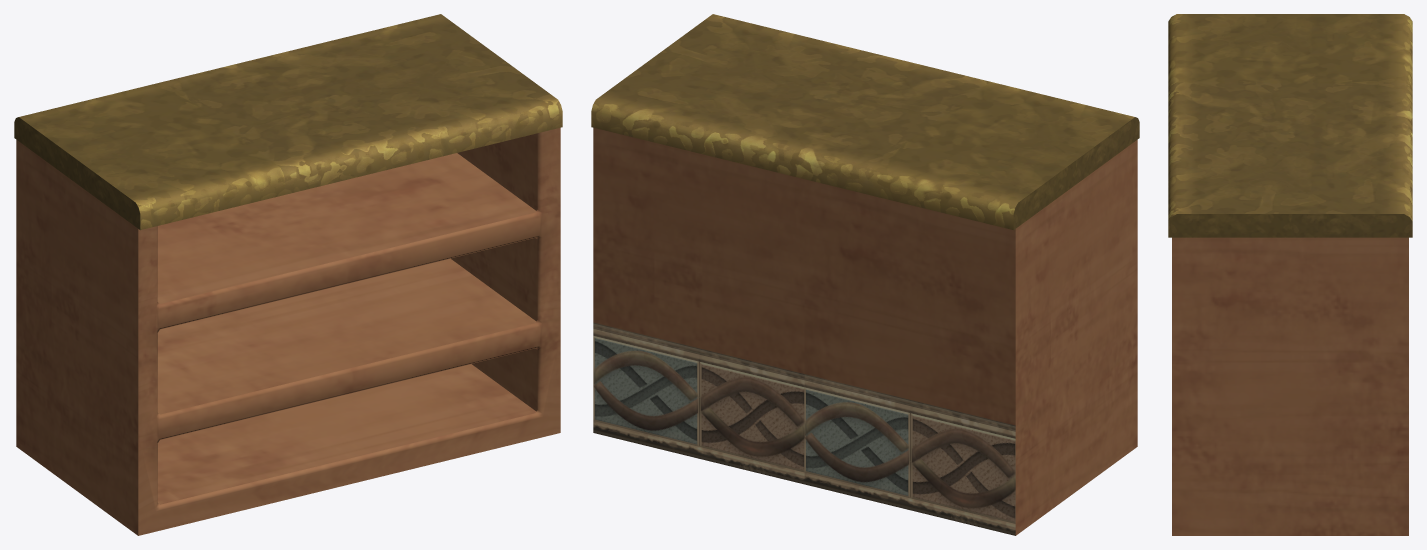
Rendered from DI_068_069_cabinet.glb.
The picture shows the model from 3 angles, left to right: view 1: azimuth 30°, elevation 25°; view 2: azimuth 150°, elevation 25°; view 3: azimuth 270°, elevation 25°; orthographic projection. The views are drawn at different scales.
Visible parts, largest first — view 1: Cabinet; view 2: Cabinet; view 3: Cabinet.
Part boxes in pixels (bbox=[...]): Cabinet: bbox=[14, 14, 562, 535]; Cabinet: bbox=[591, 14, 1139, 535]; Cabinet: bbox=[1168, 14, 1412, 535].
Bounding box in the file's own units: 1.5 × 1.12 × 0.7743.
3 materials, 3 textured.
